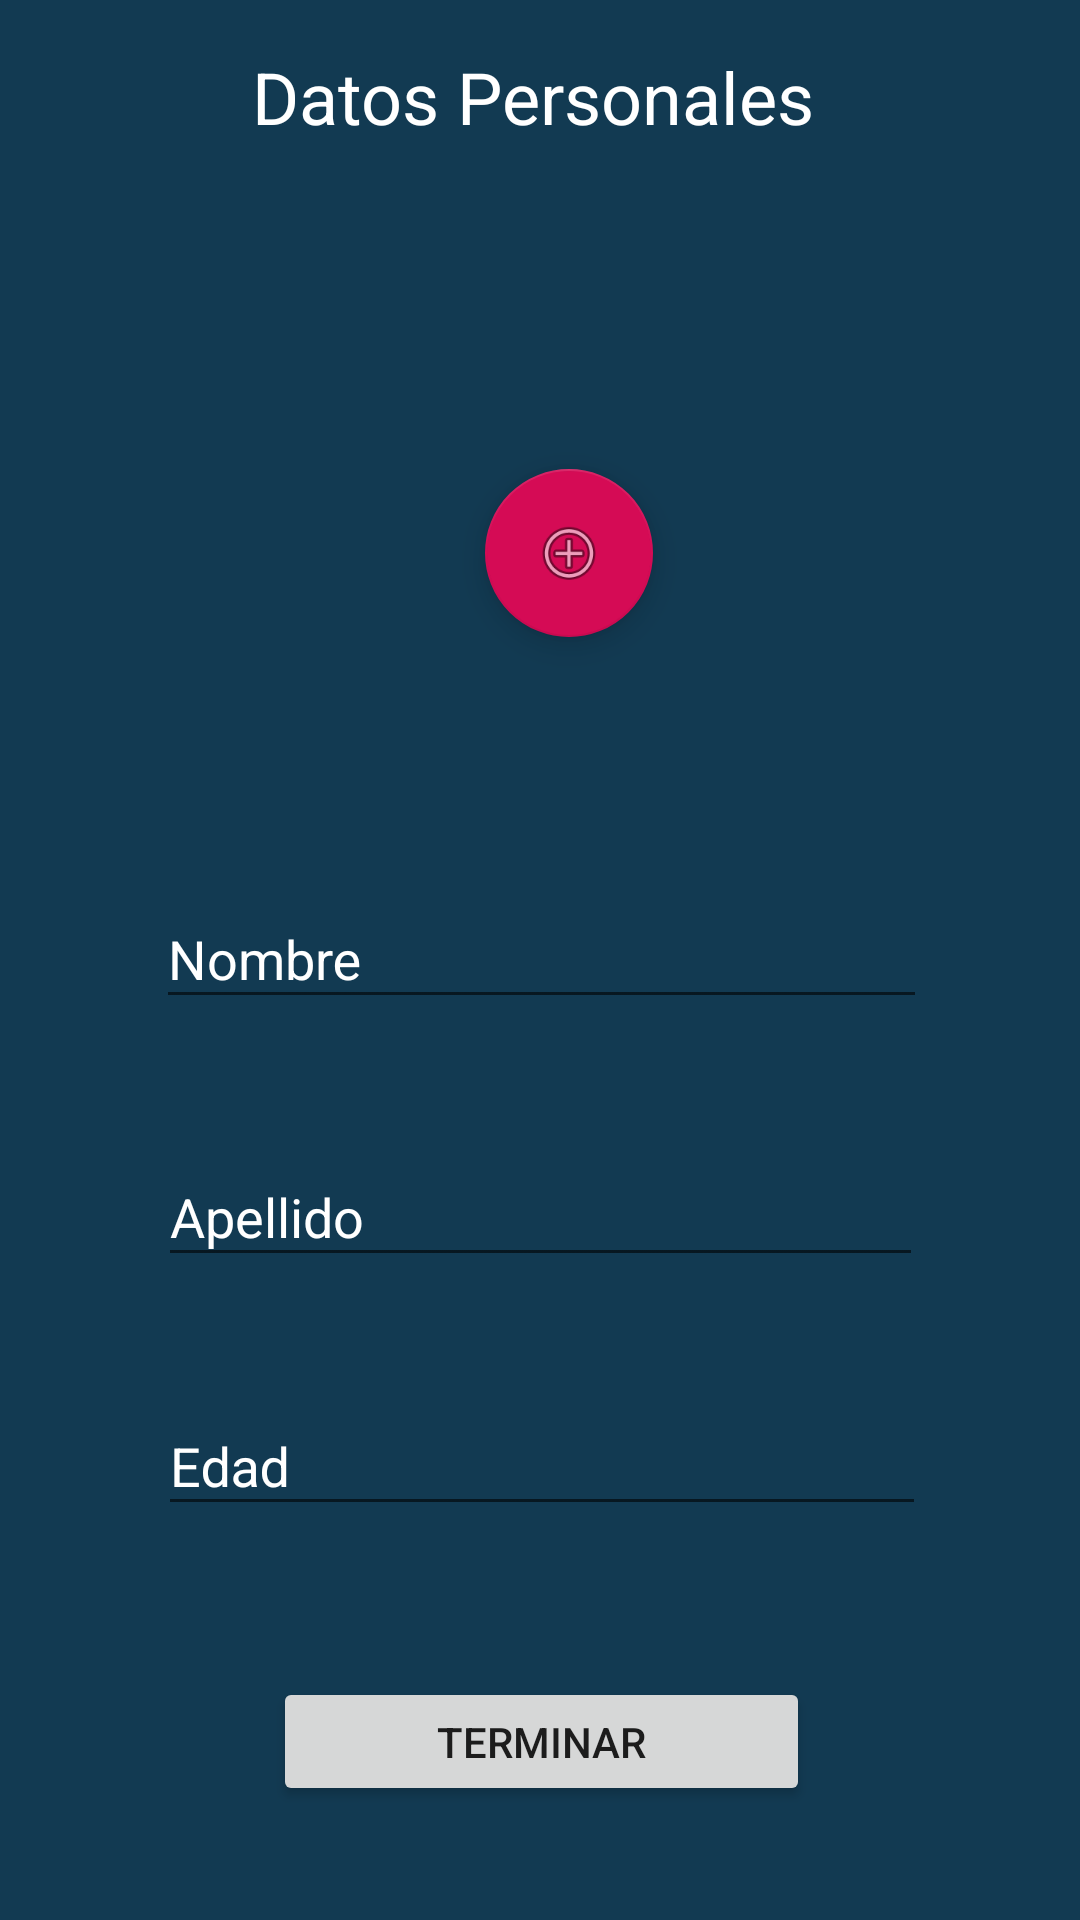

Where icons sit on this 1080 x 1920 app screen, as [x1=x1, y1=y1, x2=x2, y2=y2]:
add: [x1=485, y1=469, x2=653, y2=637]
